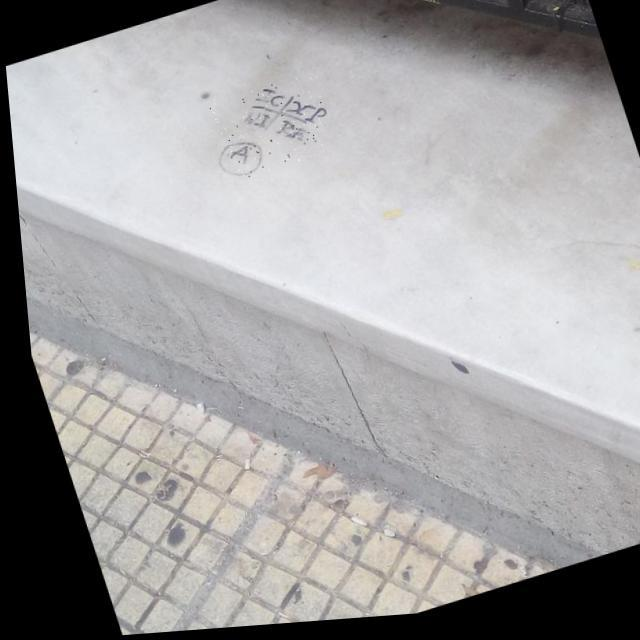-: (202, 75, 336, 186)
